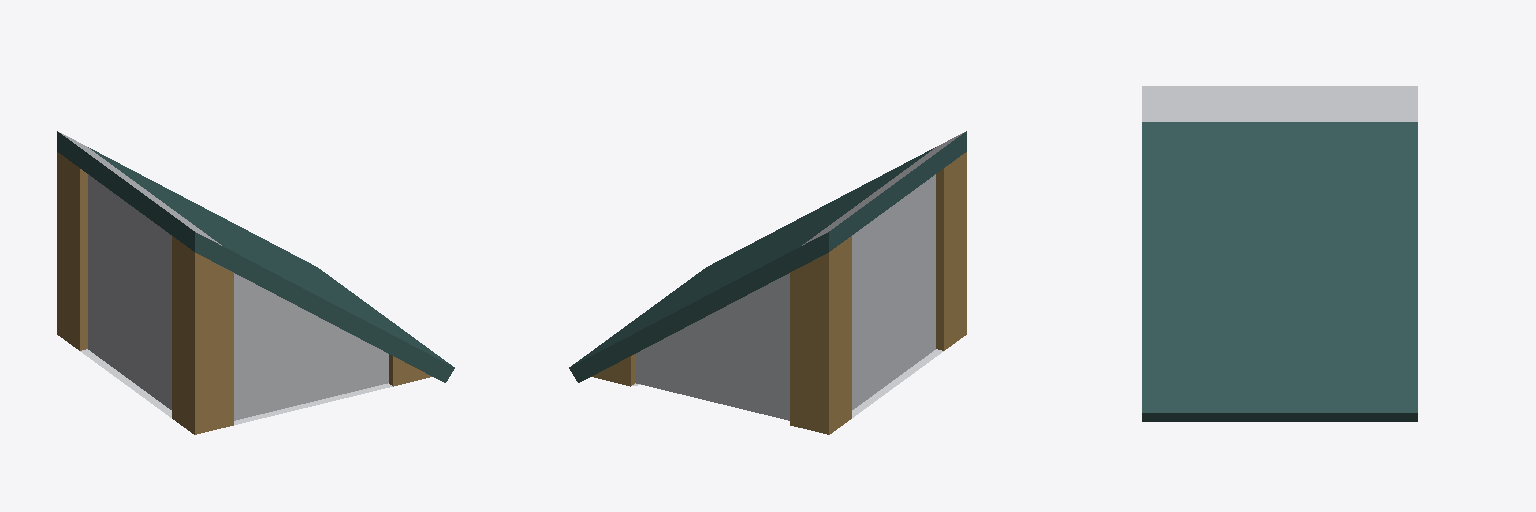
The model's file is Roof_Slant_Green_01.obj.
3 views of the same model, side by side, from view 1: azimuth 30°, elevation 25°; view 2: azimuth 150°, elevation 25°; view 3: azimuth 270°, elevation 25° (orthographic).
Parts seen in each view (by area): view 1: Mesh1 Roof_Slant_Green Model; view 2: Mesh1 Roof_Slant_Green Model; view 3: Mesh1 Roof_Slant_Green Model.
Part boxes in pixels (bbox=[...]): Mesh1 Roof_Slant_Green Model: bbox=[57, 131, 454, 434]; Mesh1 Roof_Slant_Green Model: bbox=[569, 131, 966, 434]; Mesh1 Roof_Slant_Green Model: bbox=[1142, 86, 1417, 421].
Size of the model in its own units: 3.28 by 2.57 by 3.